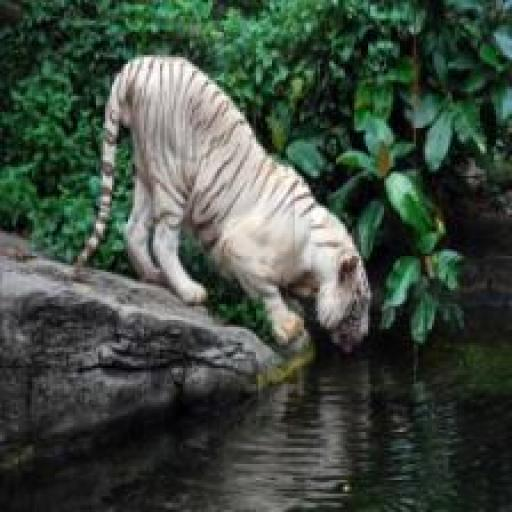Tiger: (64, 48, 382, 362)
